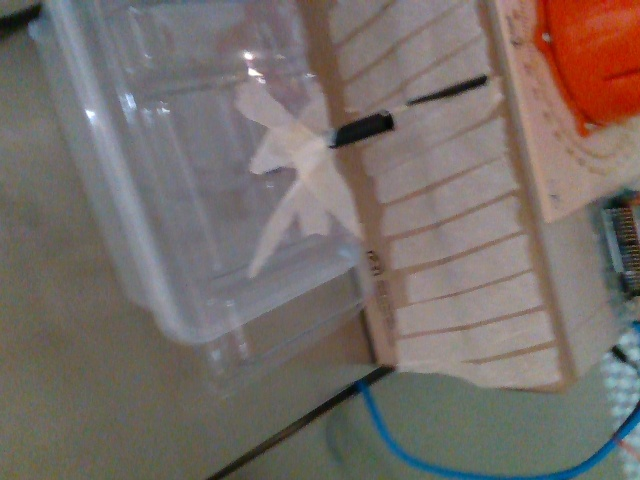test_strip: (382, 74, 484, 114)
